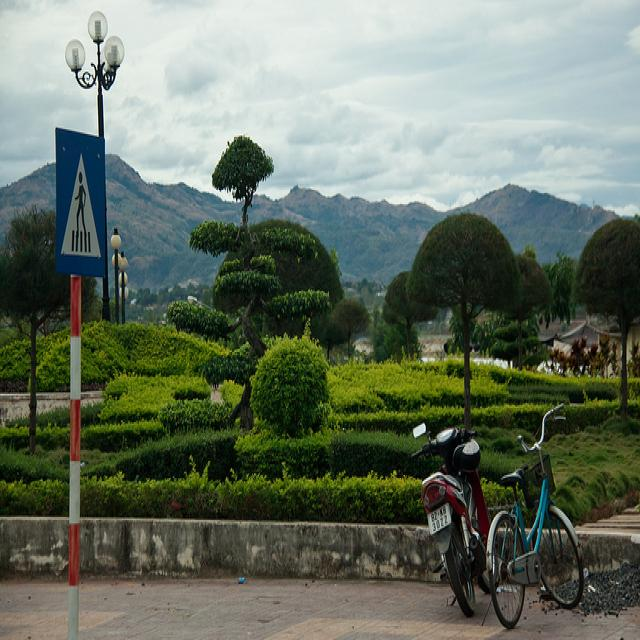motor: (412, 416, 494, 620)
